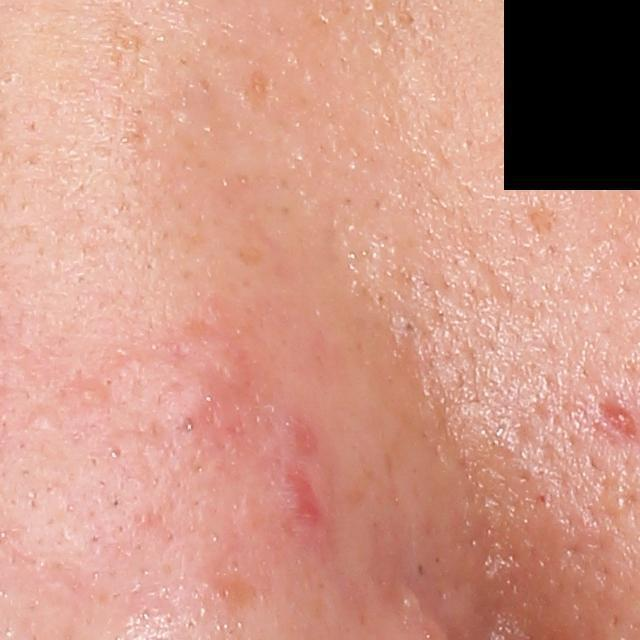hypertrophic_scar: (272, 393, 340, 573), (101, 352, 215, 435), (174, 319, 259, 394)
melasma: (521, 199, 560, 240), (245, 62, 275, 104)
